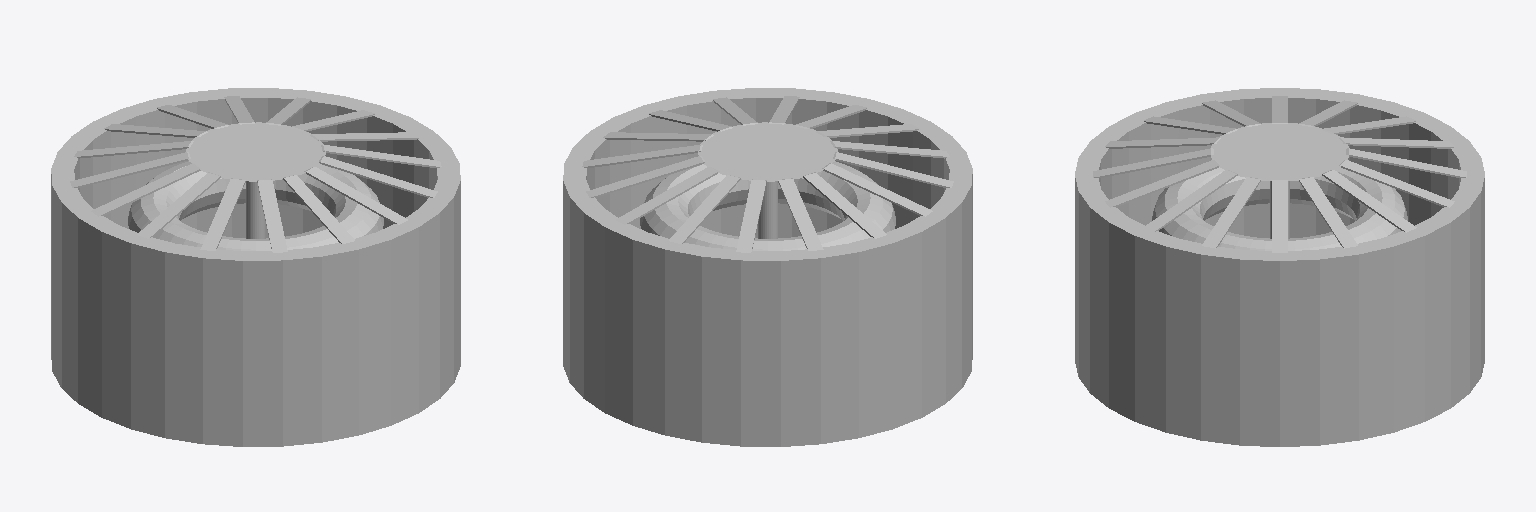
Rendered from power model.obj.
3 views of the same model, side by side, from view 1: azimuth 30°, elevation 25°; view 2: azimuth 150°, elevation 25°; view 3: azimuth 270°, elevation 25° (orthographic).
Visible parts, largest first — view 1: Cylinder, Torus.001, Cylinder.001, Cube_Cube.001, Cube.012_Cube.013, Cube.004_Cube.005, Cube.015_Cube.016, Cube.011_Cube.012, Cube.003_Cube.004, Cube.007_Cube.008, Cube.010_Cube.011, Cube.008_Cube.009 (+5 smaller); view 2: Cylinder, Torus.001, Cylinder.001, Cube.002_Cube.003, Cube.010_Cube.011, Cube.005_Cube.006, Cube.009_Cube.010, Cube.013_Cube.014, Cube.003_Cube.004, Cube.006_Cube.007, Cube.012_Cube.013, Cube.014_Cube.015 (+5 smaller); view 3: Cylinder, Torus.001, Cylinder.001, Cube.014_Cube.015, Cube.008_Cube.009, Cube.007_Cube.008, Cube.006_Cube.007, Cube.001_Cube.002, Cube.015_Cube.016, Cube.009_Cube.010, Cube_Cube.001, Cube.002_Cube.003 (+6 smaller).
Boxes of the visible parts, x1=… form: Cylinder: x1=51, y1=88, x2=460, y2=446; Torus.001: x1=128, y1=161, x2=383, y2=250; Cylinder.001: x1=186, y1=122, x2=325, y2=238; Cube_Cube.001: x1=283, y1=175, x2=354, y2=243; Cube.012_Cube.013: x1=137, y1=172, x2=220, y2=238; Cube.004_Cube.005: x1=200, y1=178, x2=245, y2=250; Cube.015_Cube.016: x1=304, y1=167, x2=407, y2=224; Cube.011_Cube.012: x1=257, y1=179, x2=287, y2=252; Cube.003_Cube.004: x1=91, y1=163, x2=201, y2=216; Cube.007_Cube.008: x1=319, y1=156, x2=437, y2=197; Cube.010_Cube.011: x1=70, y1=152, x2=190, y2=187; Cube.008_Cube.009: x1=321, y1=145, x2=441, y2=167; Cylinder: x1=563, y1=88, x2=972, y2=446; Torus.001: x1=640, y1=161, x2=895, y2=250; Cylinder.001: x1=698, y1=122, x2=837, y2=238; Cube.002_Cube.003: x1=669, y1=175, x2=740, y2=243; Cube.010_Cube.011: x1=803, y1=172, x2=886, y2=238; Cube.005_Cube.006: x1=778, y1=178, x2=823, y2=250; Cube.009_Cube.010: x1=616, y1=167, x2=719, y2=224; Cube.013_Cube.014: x1=736, y1=179, x2=766, y2=252; Cube.003_Cube.004: x1=822, y1=163, x2=932, y2=216; Cube.006_Cube.007: x1=586, y1=156, x2=704, y2=197; Cube.012_Cube.013: x1=833, y1=152, x2=953, y2=187; Cube.014_Cube.015: x1=582, y1=145, x2=702, y2=167; Cylinder: x1=1075, y1=88, x2=1484, y2=446; Torus.001: x1=1152, y1=167, x2=1407, y2=250; Cylinder.001: x1=1211, y1=123, x2=1348, y2=238; Cube.014_Cube.015: x1=1299, y1=177, x2=1357, y2=248; Cube.008_Cube.009: x1=1202, y1=177, x2=1260, y2=248; Cube.007_Cube.008: x1=1143, y1=170, x2=1237, y2=232; Cube.006_Cube.007: x1=1322, y1=170, x2=1416, y2=232; Cube.001_Cube.002: x1=1272, y1=180, x2=1287, y2=252; Cube.015_Cube.016: x1=1105, y1=160, x2=1220, y2=207; Cube.009_Cube.010: x1=1339, y1=160, x2=1454, y2=207; Cube_Cube.001: x1=1093, y1=148, x2=1213, y2=177; Cube.002_Cube.003: x1=1346, y1=148, x2=1466, y2=177.
Size of the model in its own units: 4 by 2.25 by 4.